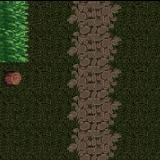Obstacle: (0, 61, 29, 95)
Slow: (0, 0, 29, 61)
